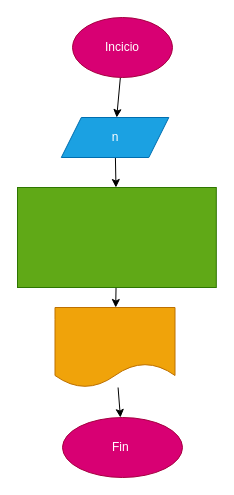
Some shapes in this 234 by 495 pixel diagram are drawn without their labels. Here are the shapes that lost their labels. From the top down, the centre of each, then its label:
At pixel 116 237: "k= C + 273.15 f= (c*9/5)+32".
At pixel 114 347: "°c-°k-°f".
